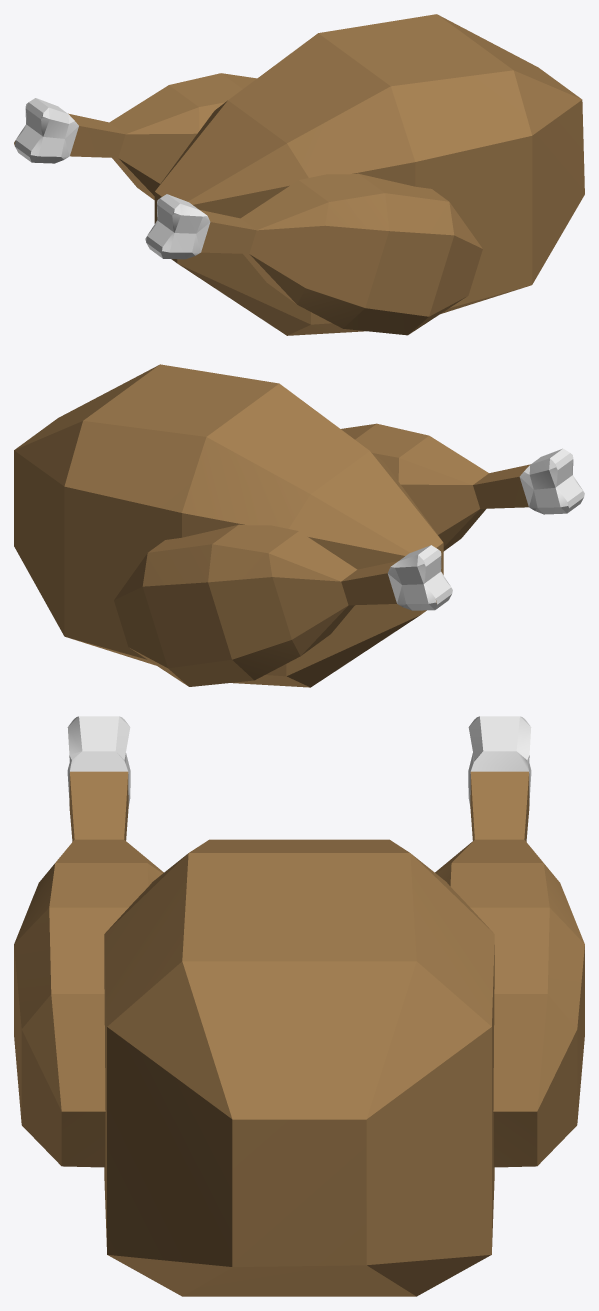
File: Chicken_01.fbx
3 views of the same model, one above another, from view 1: azimuth 30°, elevation 25°; view 2: azimuth 150°, elevation 25°; view 3: azimuth 270°, elevation 25° (orthographic). The views are drawn at different scales.
Parts seen in each view (by area): view 1: Chicken_01_LOD0; view 2: Chicken_01_LOD0; view 3: Chicken_01_LOD0.
Part boxes in pixels (x1,y1,x2,y2): Chicken_01_LOD0: [14, 14, 584, 335]; Chicken_01_LOD0: [14, 364, 584, 687]; Chicken_01_LOD0: [14, 716, 584, 1296].
Size of what is drawn, in the model's own units: 0.2715 by 0.133 by 0.1852.
